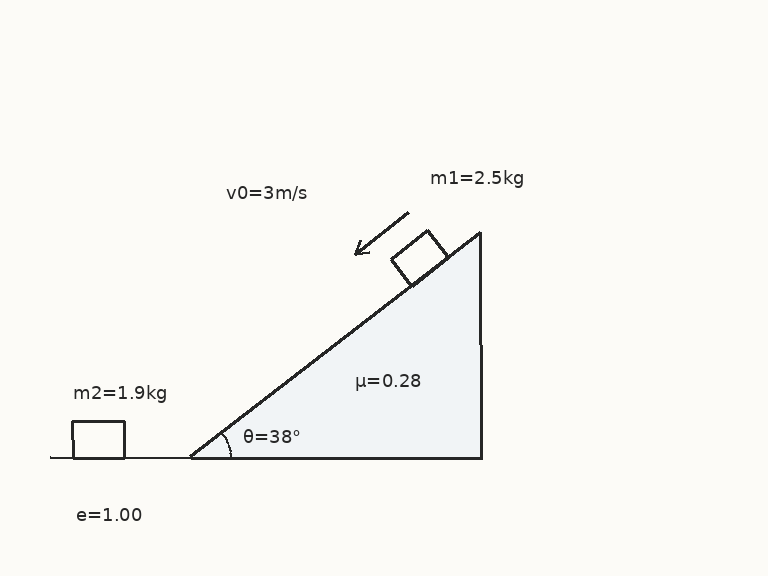block: (388, 228, 450, 288), (70, 419, 126, 460)
ramp: (189, 229, 484, 460)
